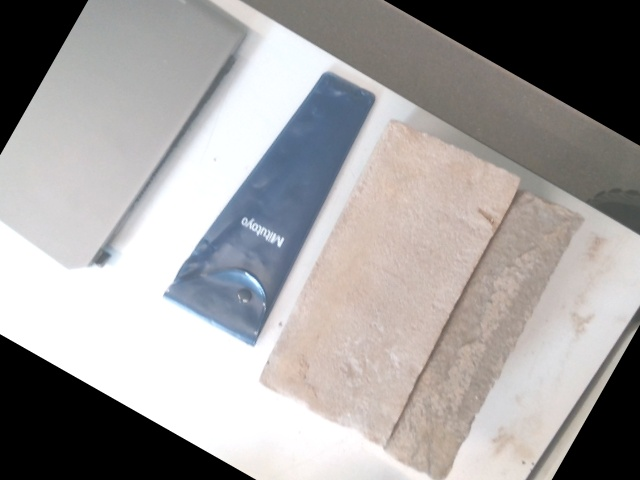brick: (263, 122, 509, 437)
